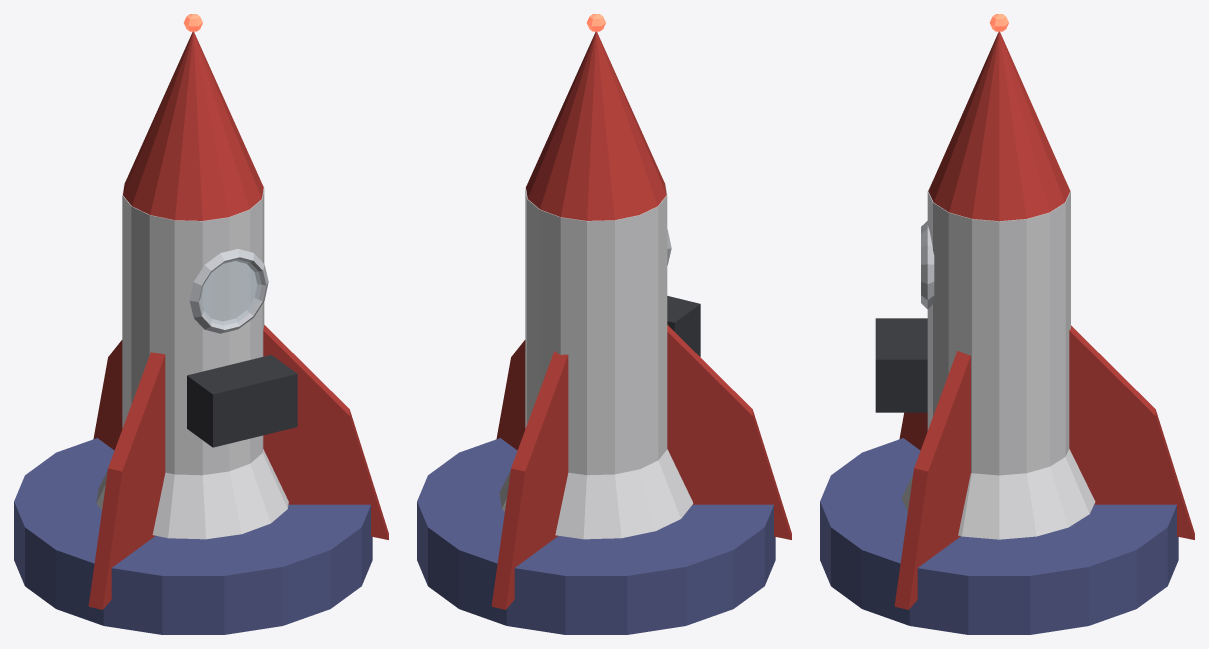
The model's file is kiddie_rocket.glb.
3 views of the same model, side by side, from view 1: azimuth 30°, elevation 25°; view 2: azimuth 150°, elevation 25°; view 3: azimuth 270°, elevation 25° (orthographic).
Parts seen in each view (by area): view 1: kiddie_rocket; view 2: kiddie_rocket; view 3: kiddie_rocket.
Boxes of the visible parts, bbox=[...] form: kiddie_rocket: bbox=[14, 14, 388, 634]; kiddie_rocket: bbox=[417, 14, 791, 634]; kiddie_rocket: bbox=[820, 14, 1194, 634].
Size of the model in its own units: 1.08 by 1.85 by 1.15.
